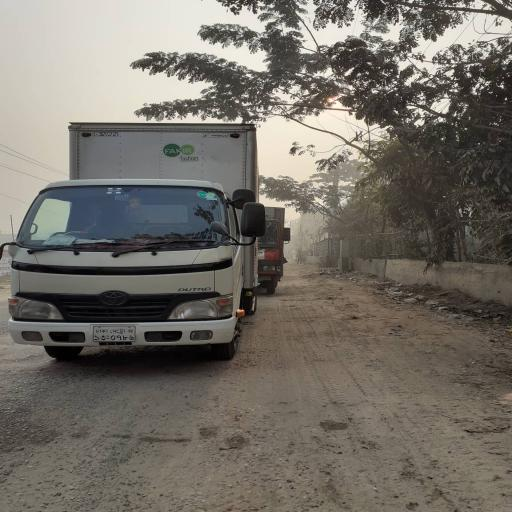pickup: (10, 122, 261, 362), (261, 206, 287, 295)
